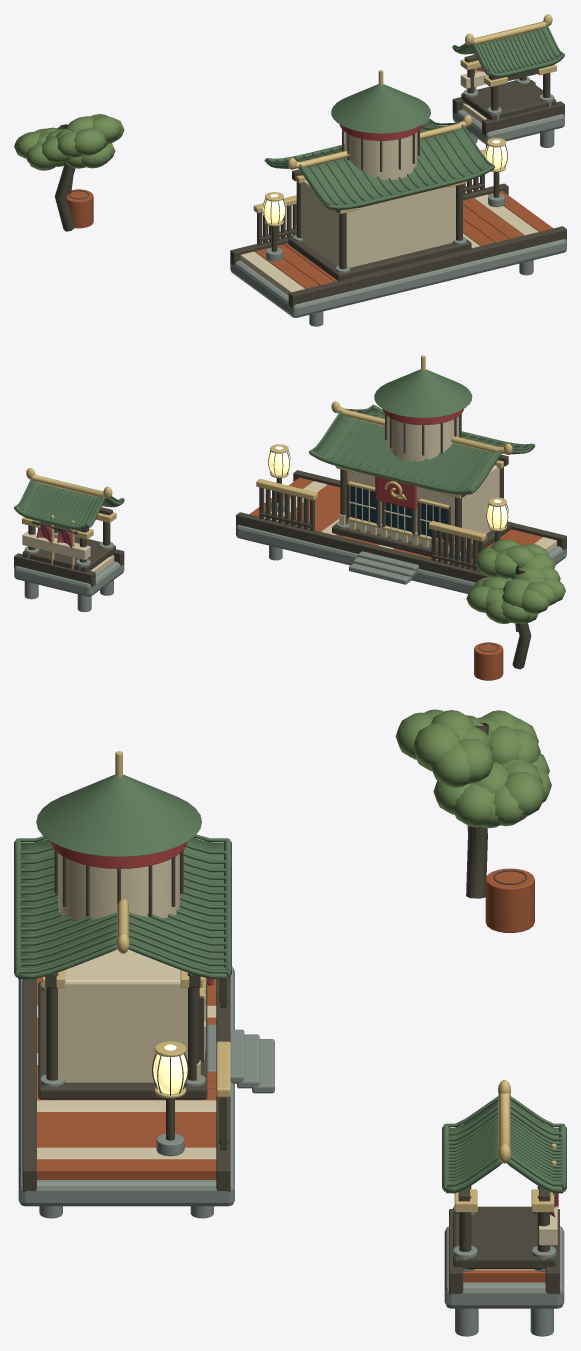
File: konoha.glb
The picture shows the model from 3 angles, top to bottom: view 1: azimuth 30°, elevation 25°; view 2: azimuth 150°, elevation 25°; view 3: azimuth 270°, elevation 25°; orthographic projection. The views are drawn at different scales.
Parts seen in each view (by area): view 1: Village hall wall, Village hall0 roof shell, Foundation stone, Mortised deck edge, Conical tiled crown, Upper circular study, Village hall raised sill, Ramen kiosk raised sill, Ramen kiosk0 roof shell, Foundation stone.001, Individual deck plank, Mortised deck edge.002 (+23 smaller); view 2: Village hall0 roof shell, Conical tiled crown, Mortised deck edge.001, Village hall wall, Foundation stone, Upper circular study, Ramen kiosk0 roof shell, Foundation stone.001, Village hall raised sill, Ramen kiosk raised sill, Training stump, Mortised deck edge.003 (+25 smaller); view 3: Village hall wall, Conical tiled crown, Village hall0 roof shell, Foundation stone, Upper circular study, Ramen kiosk raised sill, Individual deck plank.017, Village hall raised sill, Foundation stone.001, Mortised deck edge, Training stump, Individual deck plank.016 (+31 smaller).
Part boxes in pixels (x1,y1,x2,y2): Village hall wall: (301, 180, 455, 267); Village hall0 roof shell: (266, 122, 493, 210); Foundation stone: (230, 239, 566, 317); Mortised deck edge: (288, 226, 566, 308); Conical tiled crown: (331, 84, 430, 133); Upper circular study: (344, 132, 417, 179); Village hall raised sill: (288, 237, 471, 280); Ramen kiosk raised sill: (461, 80, 556, 120); Ramen kiosk0 roof shell: (453, 27, 562, 78); Foundation stone.001: (452, 109, 564, 144); Individual deck plank: (240, 251, 304, 295); Mortised deck edge.002: (482, 101, 564, 136); Village hall0 roof shell: (313, 408, 533, 494); Conical tiled crown: (374, 369, 472, 417); Mortised deck edge.001: (236, 512, 488, 582); Village hall wall: (347, 465, 499, 548); Foundation stone: (236, 525, 566, 593); Upper circular study: (387, 416, 459, 461); Ramen kiosk0 roof shell: (18, 480, 123, 530); Foundation stone.001: (14, 561, 124, 596); Village hall raised sill: (332, 521, 512, 560); Ramen kiosk raised sill: (22, 536, 115, 572); Training stump: (474, 642, 503, 680); Mortised deck edge.003: (14, 553, 95, 587); Village hall wall: (58, 949, 187, 1082); Conical tiled crown: (36, 774, 201, 856); Village hall0 roof shell: (18, 837, 227, 979); Foundation stone: (18, 966, 234, 1206); Upper circular study: (58, 853, 179, 921); Ramen kiosk raised sill: (453, 1206, 555, 1269); Individual deck plank.017: (37, 1159, 216, 1179); Village hall raised sill: (38, 981, 207, 1099); Foundation stone.001: (444, 1226, 564, 1308); Mortised deck edge: (22, 978, 36, 1192); Training stump: (485, 868, 534, 932); Individual deck plank.016: (37, 1147, 216, 1159).
Size of the model in its own units: 5.41 by 2.09 by 2.91.
